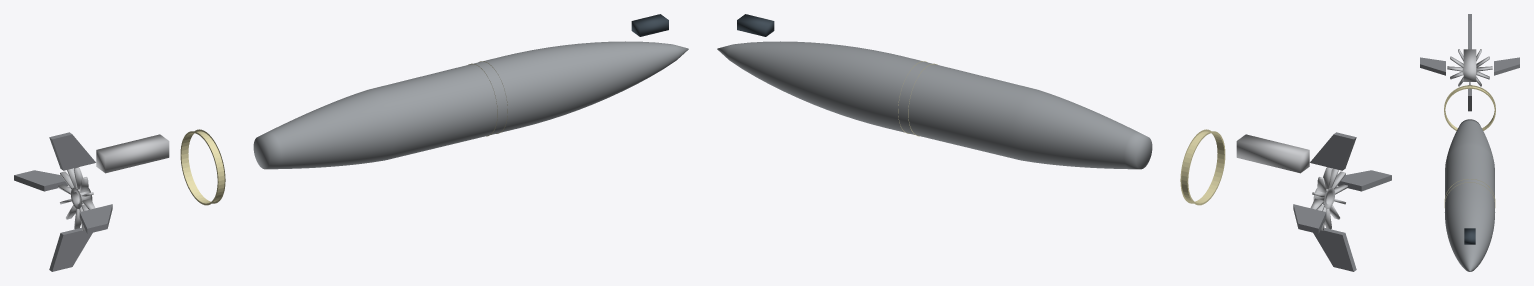
Rendered from US_TORP_Mk37_Mod2_LOD0.fbx.
The picture shows the model from 3 angles, left to right: view 1: azimuth 30°, elevation 25°; view 2: azimuth 150°, elevation 25°; view 3: azimuth 270°, elevation 25°; orthographic projection. The views are drawn at different scales.
Visible parts, largest first — view 1: WPN_US_TORP_Mk37_Mod2_LOD0_Body, WPN_US_TORP_Mk37_Mod2_LOD0_Fins, WPN_US_TORP_Mk37_Mod2_LOD0_Detail, WPN_US_TORP_Mk37_Mod2_LOD0_Marking, WPN_US_TORP_Mk37_Mod2_LOD0_Propulsor, WPN_US_TORP_Mk37_Mod2_LOD0_Seeker; view 2: WPN_US_TORP_Mk37_Mod2_LOD0_Body, WPN_US_TORP_Mk37_Mod2_LOD0_Fins, WPN_US_TORP_Mk37_Mod2_LOD0_Detail, WPN_US_TORP_Mk37_Mod2_LOD0_Marking, WPN_US_TORP_Mk37_Mod2_LOD0_Propulsor, WPN_US_TORP_Mk37_Mod2_LOD0_Seeker; view 3: WPN_US_TORP_Mk37_Mod2_LOD0_Body, WPN_US_TORP_Mk37_Mod2_LOD0_Fins, WPN_US_TORP_Mk37_Mod2_LOD0_Marking, WPN_US_TORP_Mk37_Mod2_LOD0_Propulsor, WPN_US_TORP_Mk37_Mod2_LOD0_Detail, WPN_US_TORP_Mk37_Mod2_LOD0_Seeker.
Boxes of the visible parts, x1,y1,x2,y2 form: WPN_US_TORP_Mk37_Mod2_LOD0_Body: (253, 41, 688, 169); WPN_US_TORP_Mk37_Mod2_LOD0_Fins: (14, 132, 112, 271); WPN_US_TORP_Mk37_Mod2_LOD0_Detail: (96, 134, 169, 173); WPN_US_TORP_Mk37_Mod2_LOD0_Marking: (180, 61, 507, 205); WPN_US_TORP_Mk37_Mod2_LOD0_Propulsor: (58, 167, 95, 230); WPN_US_TORP_Mk37_Mod2_LOD0_Seeker: (631, 14, 668, 36); WPN_US_TORP_Mk37_Mod2_LOD0_Body: (717, 41, 1152, 169); WPN_US_TORP_Mk37_Mod2_LOD0_Fins: (1293, 132, 1391, 271); WPN_US_TORP_Mk37_Mod2_LOD0_Detail: (1236, 134, 1309, 173); WPN_US_TORP_Mk37_Mod2_LOD0_Marking: (898, 61, 1225, 205); WPN_US_TORP_Mk37_Mod2_LOD0_Propulsor: (1310, 167, 1347, 230); WPN_US_TORP_Mk37_Mod2_LOD0_Seeker: (737, 14, 774, 36); WPN_US_TORP_Mk37_Mod2_LOD0_Body: (1444, 119, 1495, 271); WPN_US_TORP_Mk37_Mod2_LOD0_Fins: (1420, 14, 1519, 111); WPN_US_TORP_Mk37_Mod2_LOD0_Marking: (1444, 85, 1495, 207); WPN_US_TORP_Mk37_Mod2_LOD0_Propulsor: (1447, 49, 1492, 89); WPN_US_TORP_Mk37_Mod2_LOD0_Detail: (1463, 49, 1476, 81); WPN_US_TORP_Mk37_Mod2_LOD0_Seeker: (1464, 228, 1475, 244).
Size of the model in its own units: 4.82 by 0.9576 by 0.9576.
